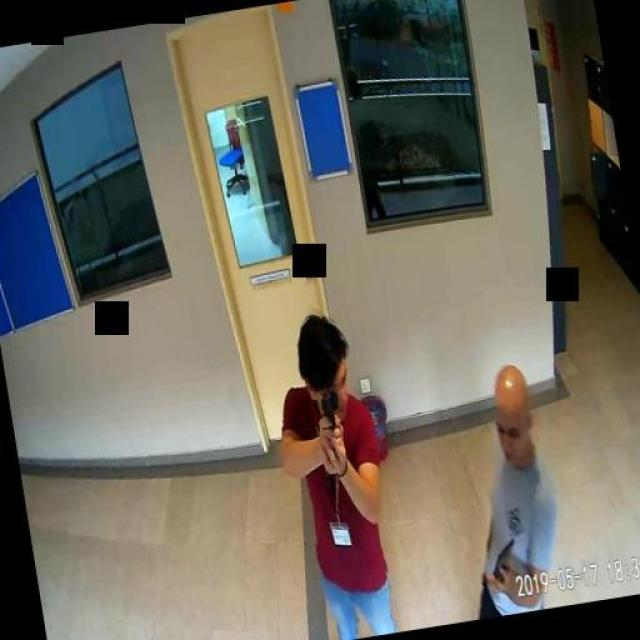gun: (316, 388, 345, 452)
